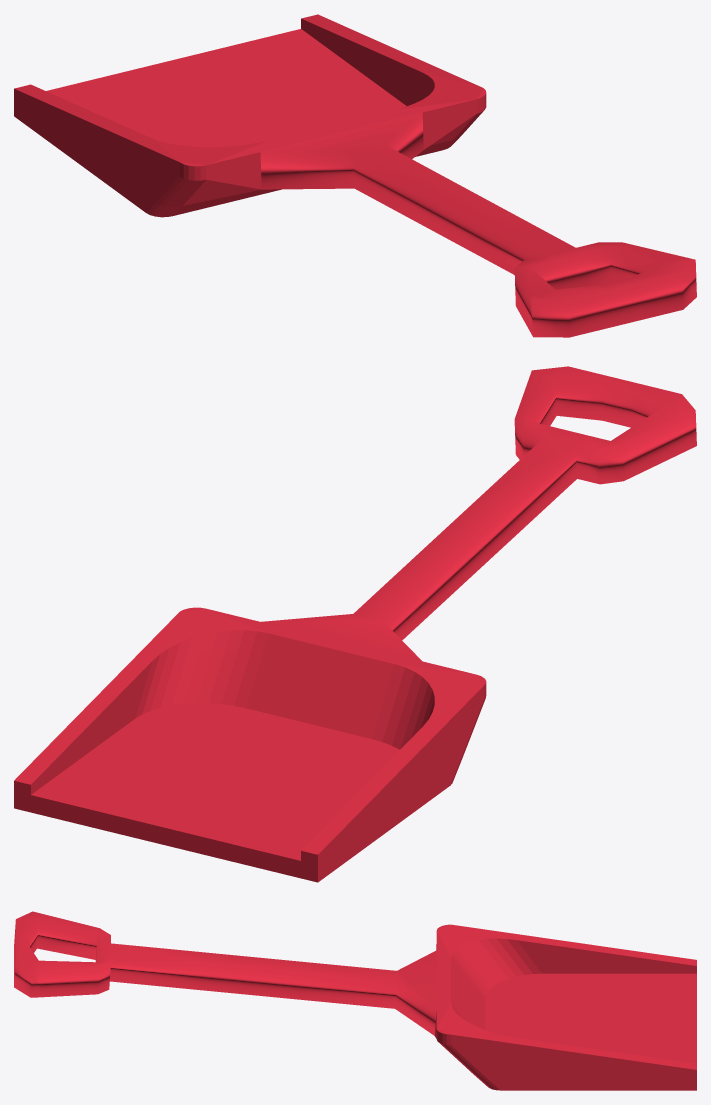
The model's file is Sand Shovel.fbx.
The picture shows the model from 3 angles, top to bottom: view 1: azimuth 30°, elevation 25°; view 2: azimuth 150°, elevation 25°; view 3: azimuth 270°, elevation 25°; orthographic projection. The views are drawn at different scales.
Parts seen in each view (by area): view 1: Cube; view 2: Cube; view 3: Cube.
Boxes of the visible parts, x1=… form: Cube: x1=14, y1=14, x2=696, y2=337; Cube: x1=14, y1=366, x2=696, y2=882; Cube: x1=14, y1=911, x2=696, y2=1090.
Bounding box in the file's own units: 108 × 43.68 × 282.
